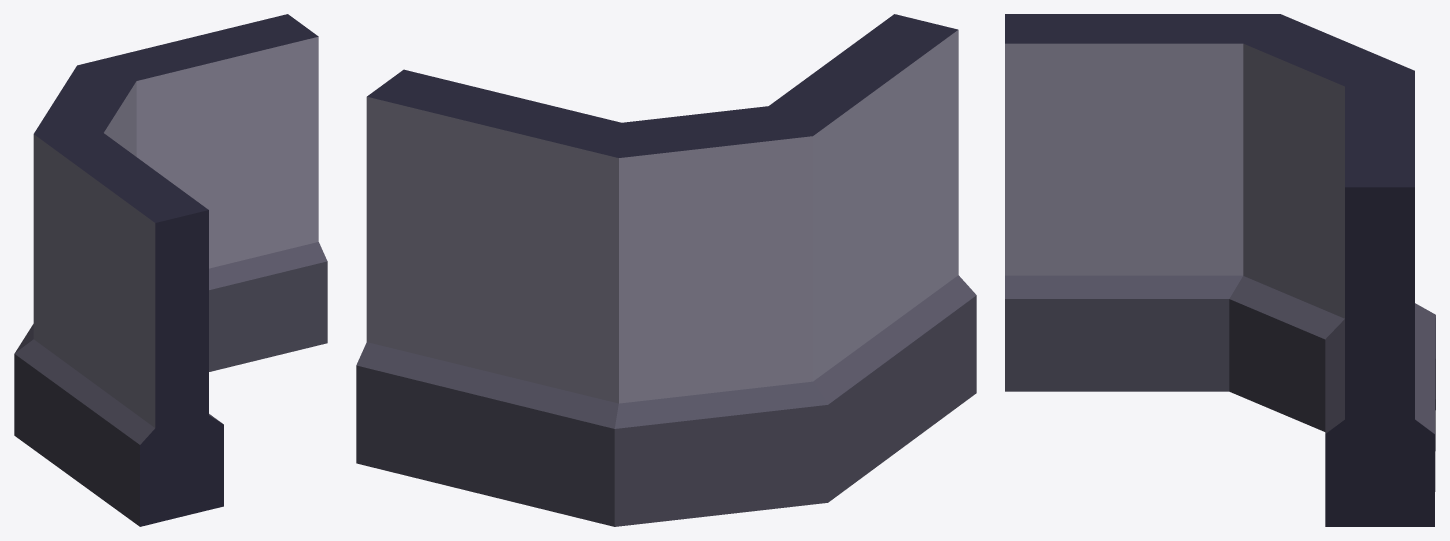
The model's file is WallCorner 1.fbx.
3 views of the same model, side by side, from view 1: azimuth 30°, elevation 25°; view 2: azimuth 150°, elevation 25°; view 3: azimuth 270°, elevation 25° (orthographic). The views are drawn at different scales.
Parts seen in each view (by area): view 1: WallCorner; view 2: WallCorner; view 3: WallCorner.
Part boxes in pixels (x1,y1,x2,y2): WallCorner: (14,14,327,526); WallCorner: (356,14,976,526); WallCorner: (1005,14,1435,526).
Size of the model in its own units: 115 by 100 by 115.
